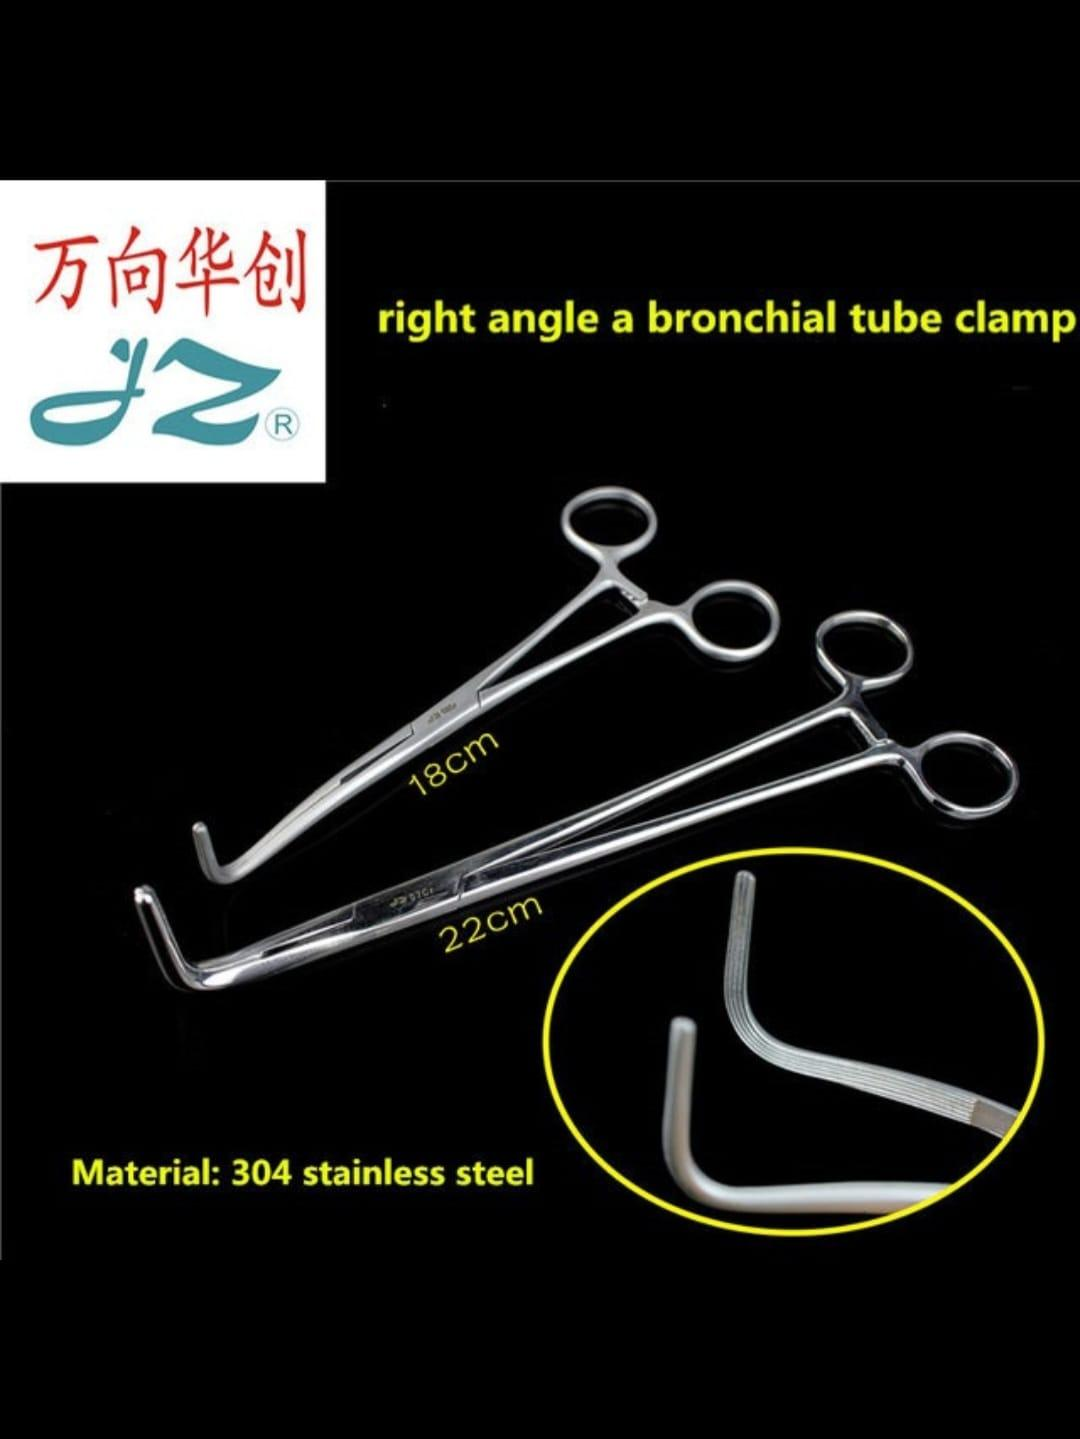Rectangle Cholecystectomy Forceps: (128, 594, 1026, 1010), (192, 456, 782, 888)
